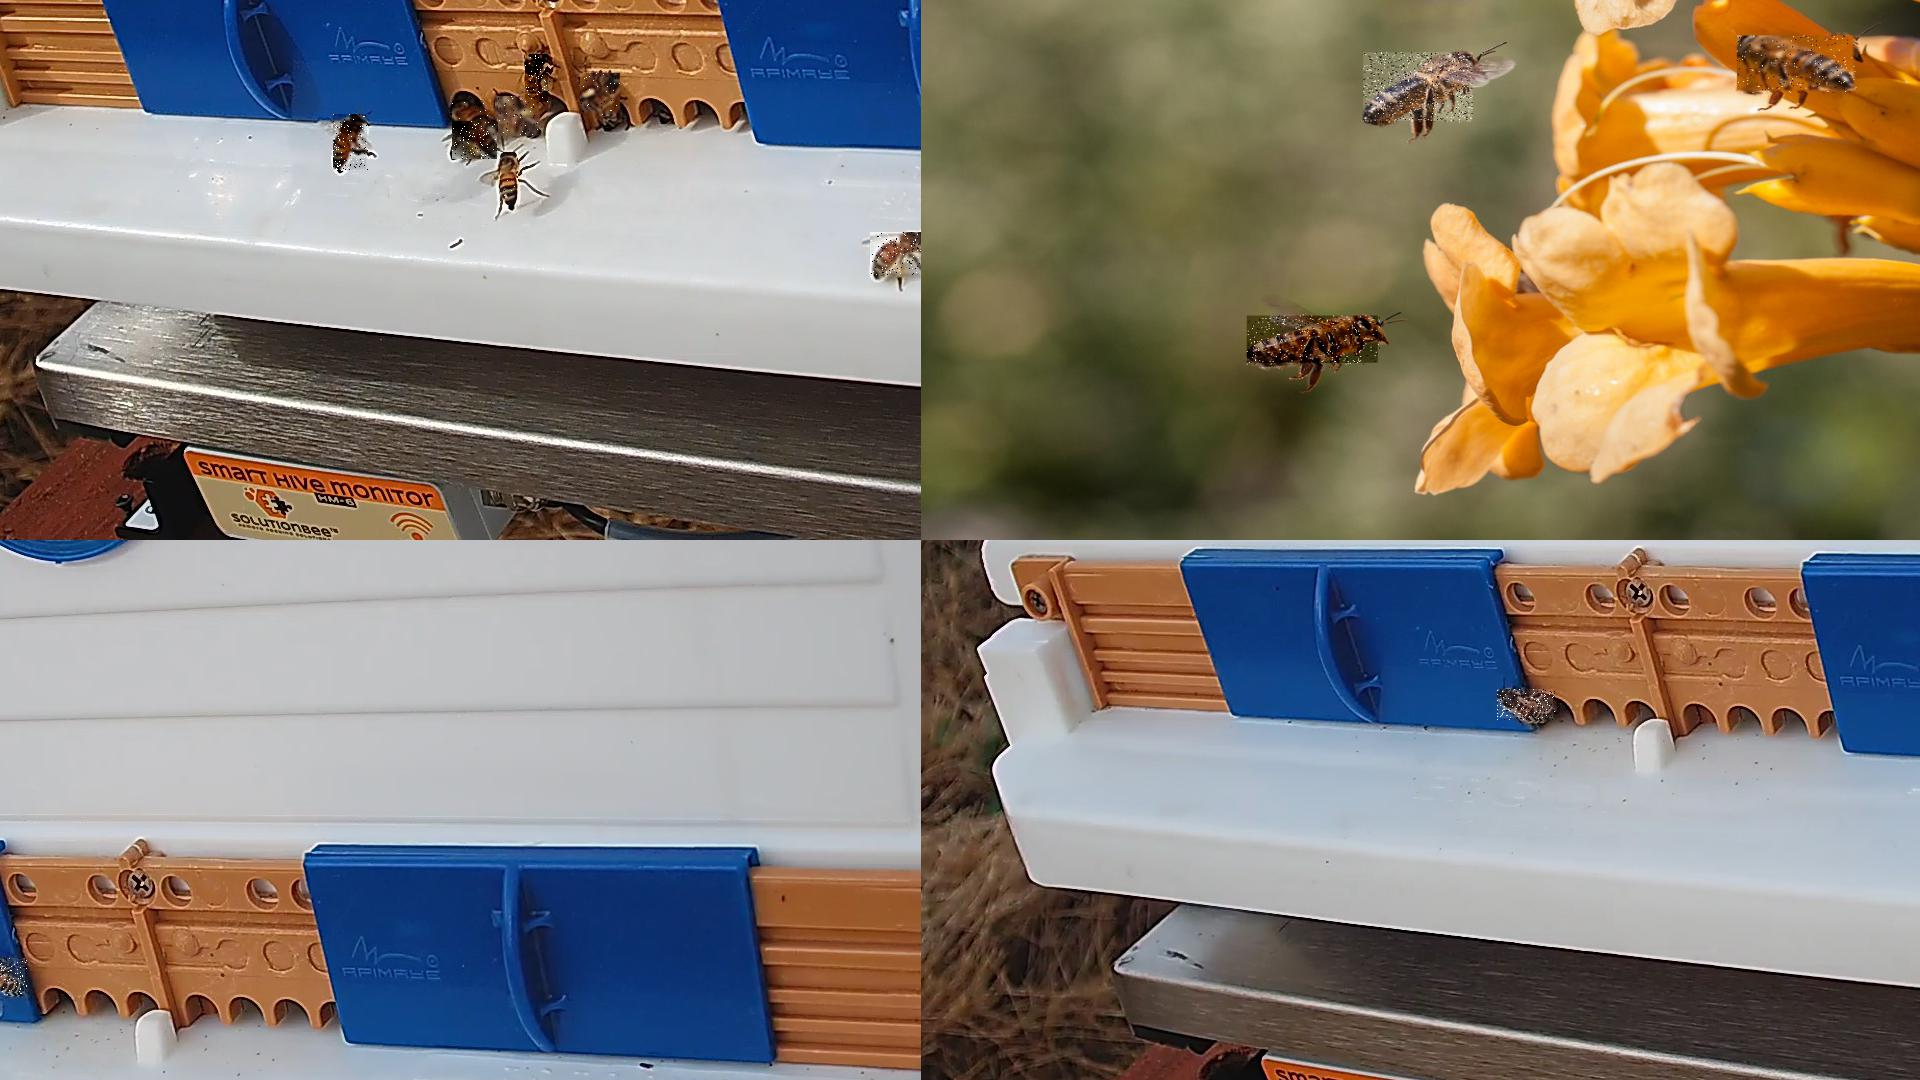bee: (1364, 53, 1474, 124), (1738, 37, 1858, 95), (1247, 316, 1382, 367), (334, 115, 371, 173), (1498, 690, 1557, 721), (0, 957, 29, 997), (500, 153, 520, 210), (452, 100, 489, 131), (495, 98, 517, 123)
pollenbee: (870, 232, 920, 277), (580, 74, 621, 117), (452, 121, 498, 160), (498, 100, 541, 137), (526, 55, 553, 105)
